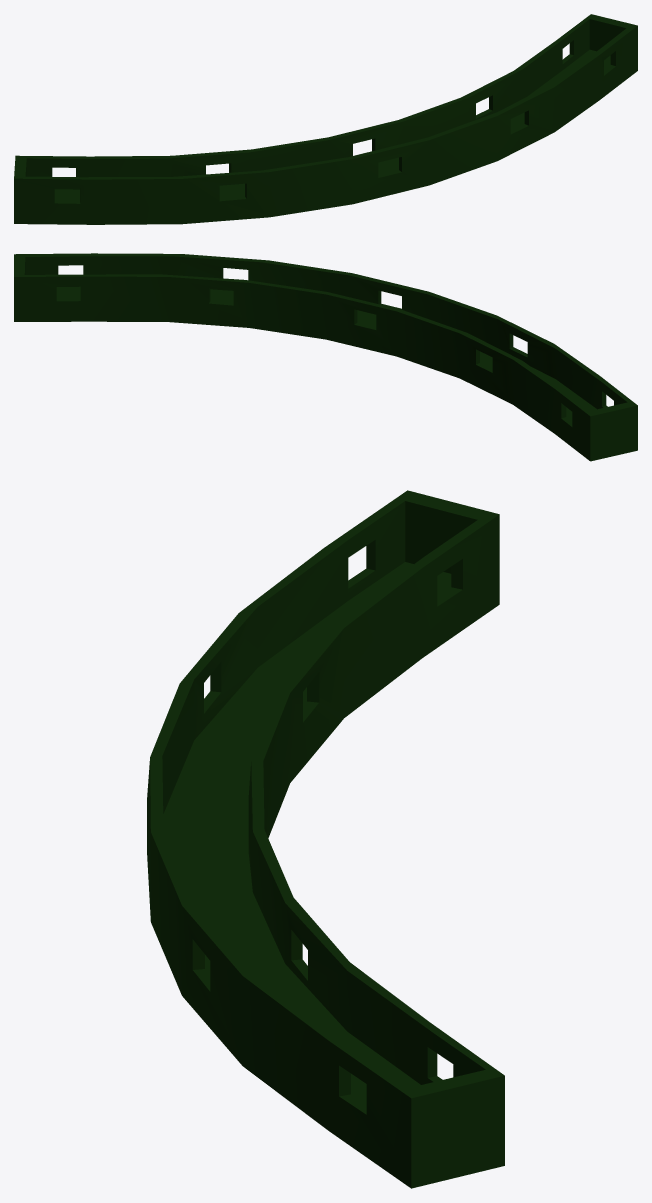
Rendered from wall-top-5.fbx.
3 views of the same model, one above another, from view 1: azimuth 30°, elevation 25°; view 2: azimuth 150°, elevation 25°; view 3: azimuth 270°, elevation 25° (orthographic). The views are drawn at different scales.
Parts seen in each view (by area): view 1: wall-top-5; view 2: wall-top-5; view 3: wall-top-5.
Part boxes in pixels (x1,y1,x2,y2): wall-top-5: [14, 14, 637, 224]; wall-top-5: [14, 253, 637, 461]; wall-top-5: [147, 490, 504, 1188].
Size of the model in its own units: 23.95 by 1.66 by 5.96.
